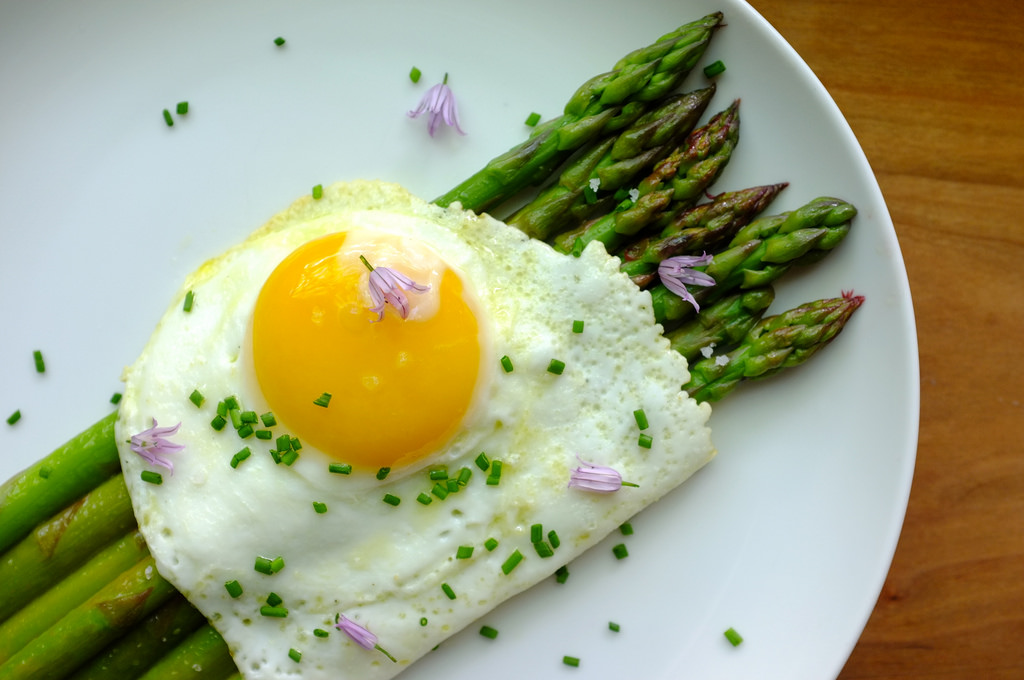fried egg: (141, 178, 660, 638)
